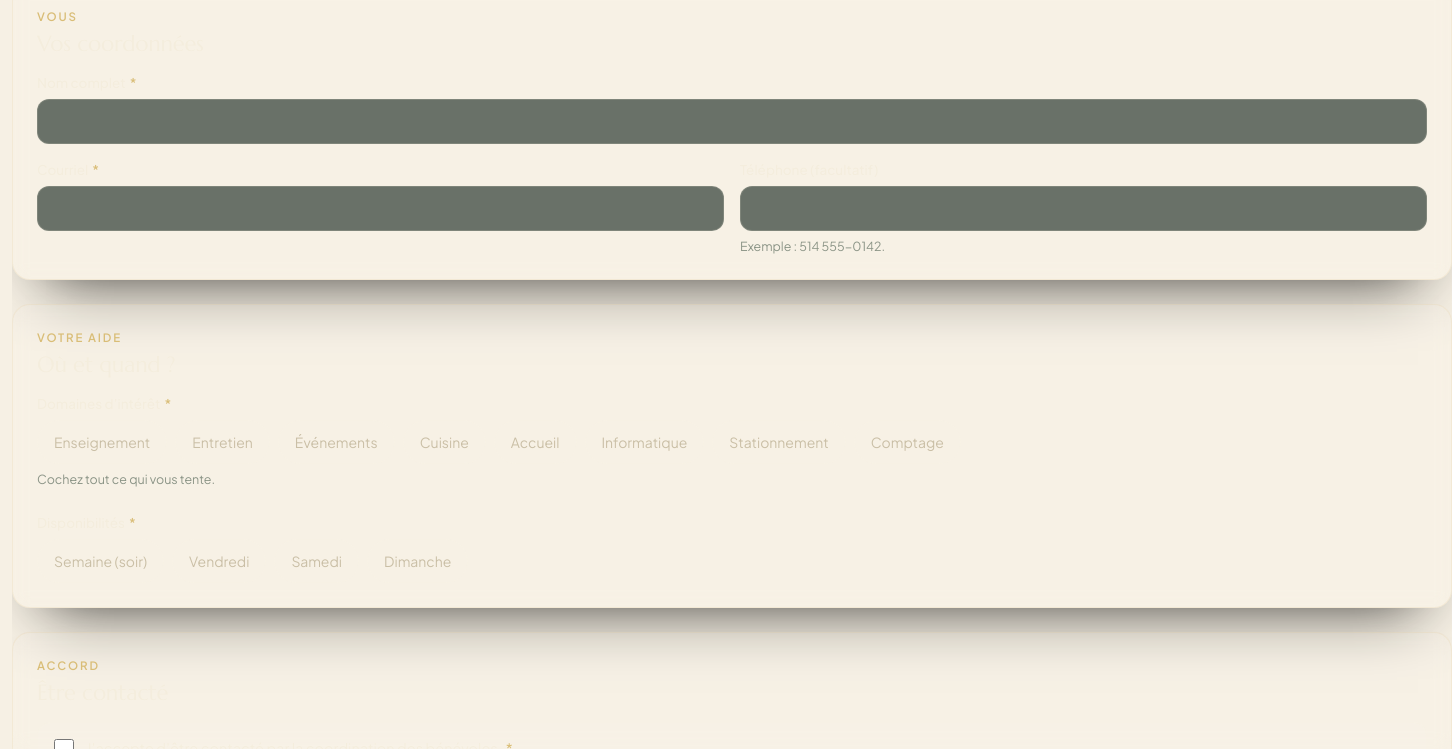
Test: Public — volunteer form › requires the consent to be contacted before sending anything
This screenshot has width=1452, height=749.
Later steps or results of the test are not shown.
Type "Leïla Haddad" into the field labelled "Nom complet*" at (732, 122), box [37,99,1427,144]
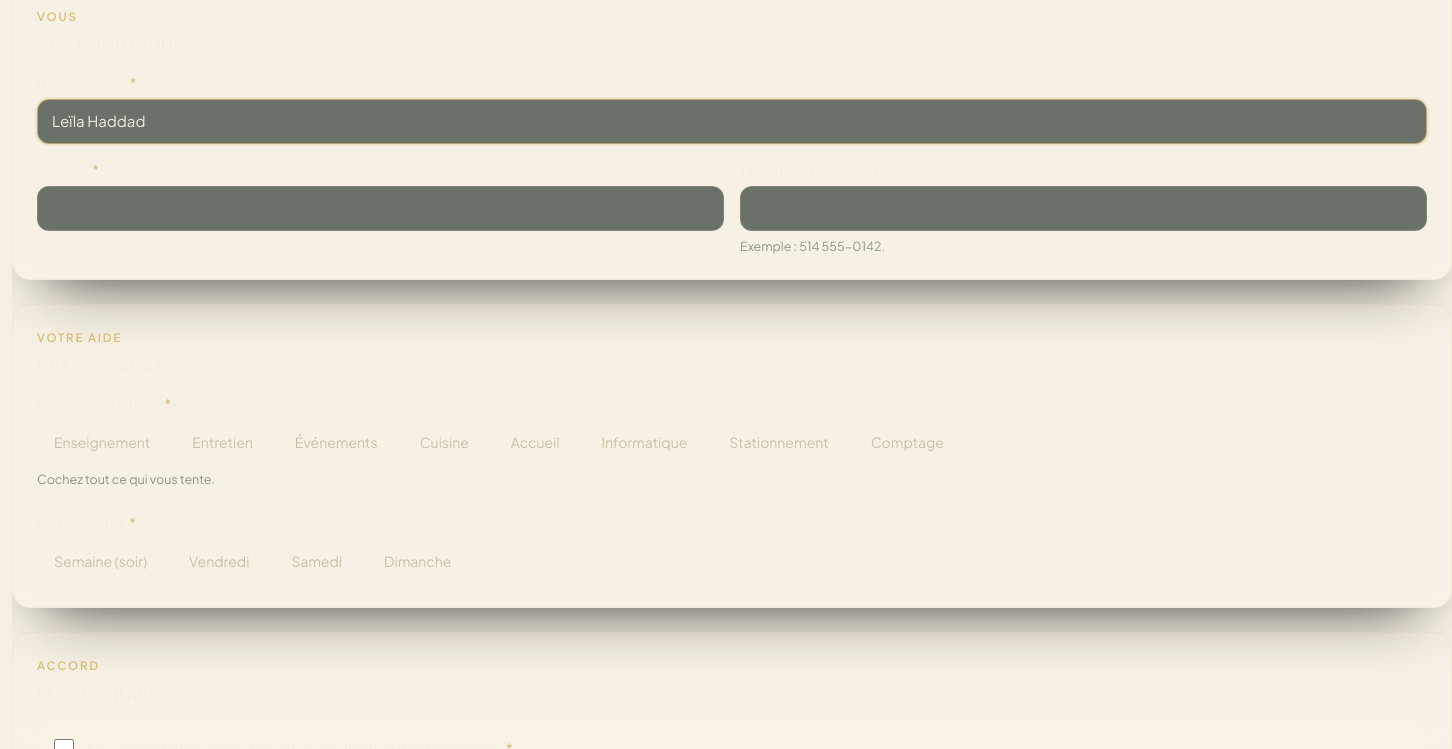
Type "leila.h@example.org" into the field labelled "Courriel*" at (380, 208), box [37,186,724,230]
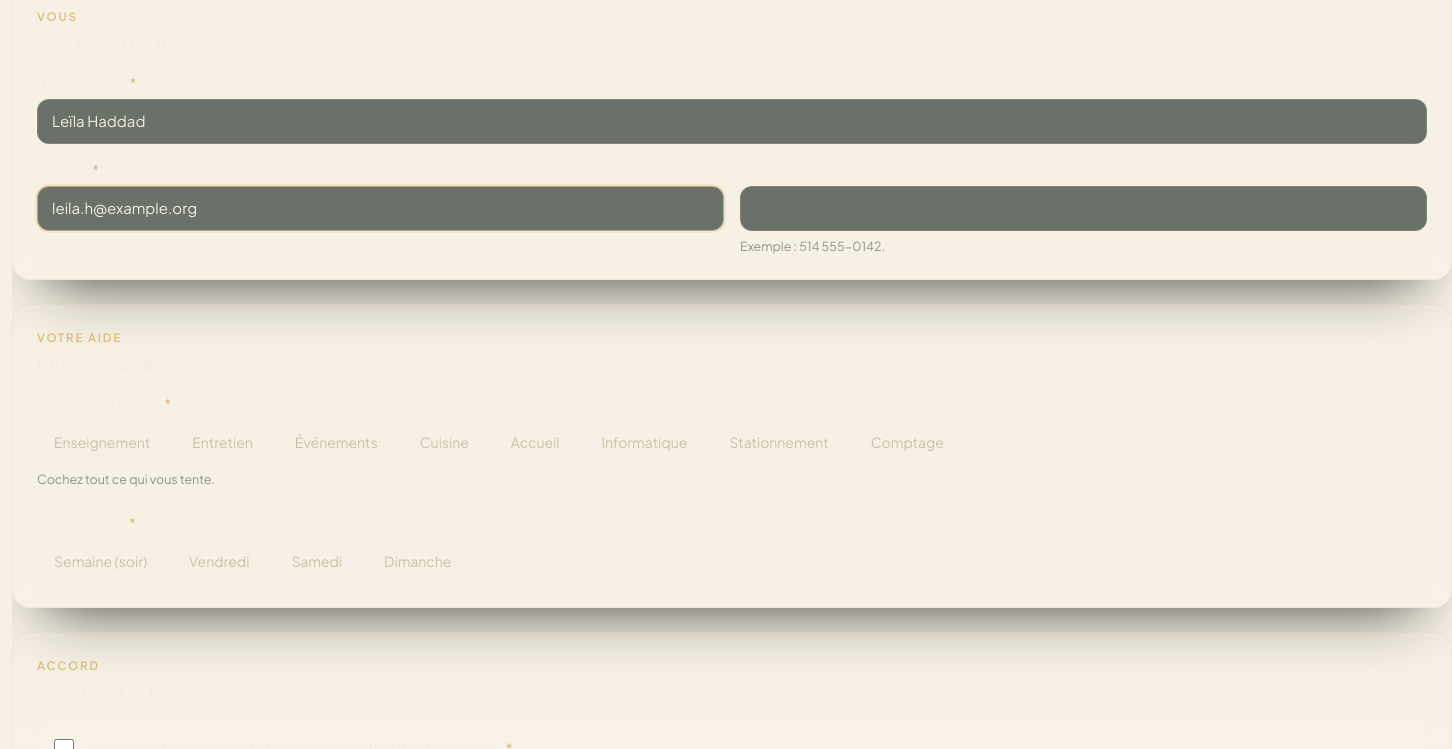
Click the checkbox labelled "Accueil" at (535, 442), box [494,420,576,464]
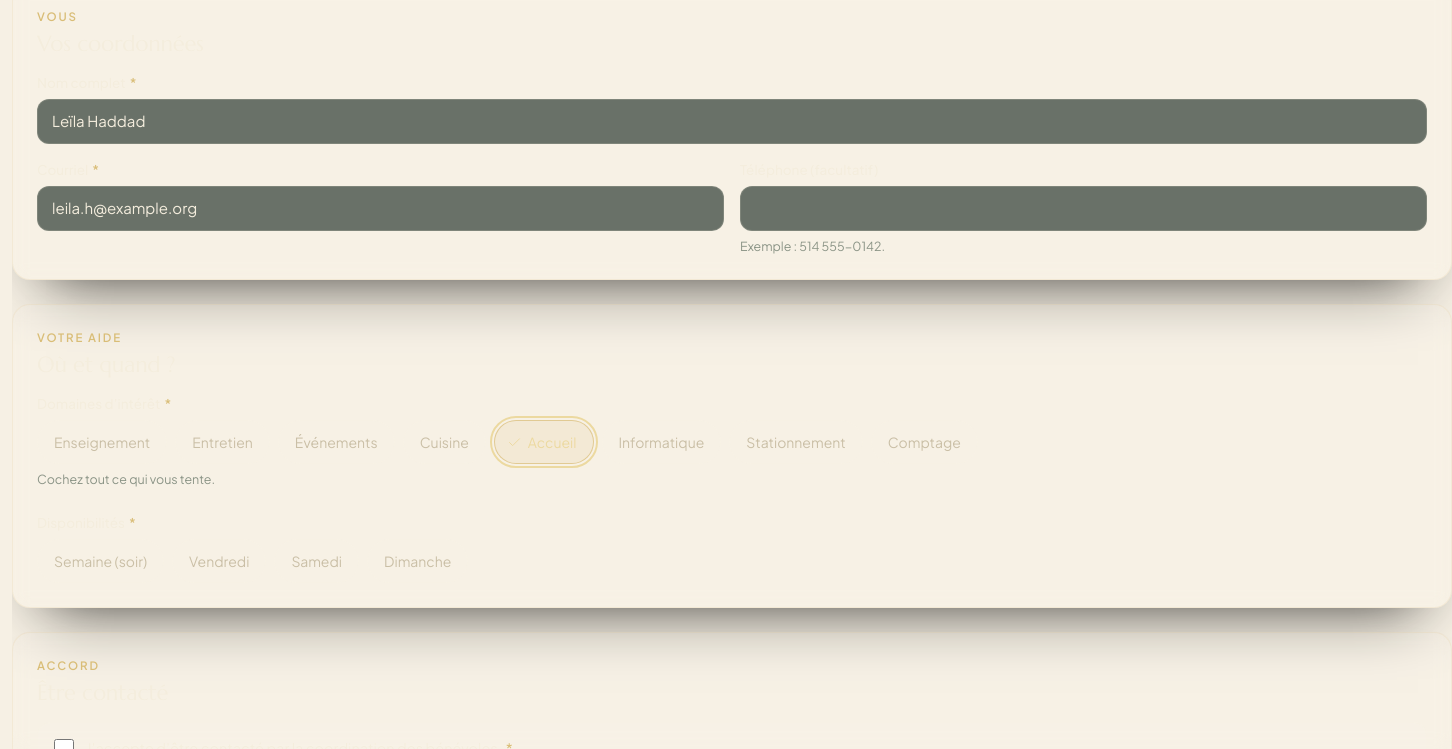
Click the checkbox labelled "Cuisine" at (444, 442), box [403,420,486,464]
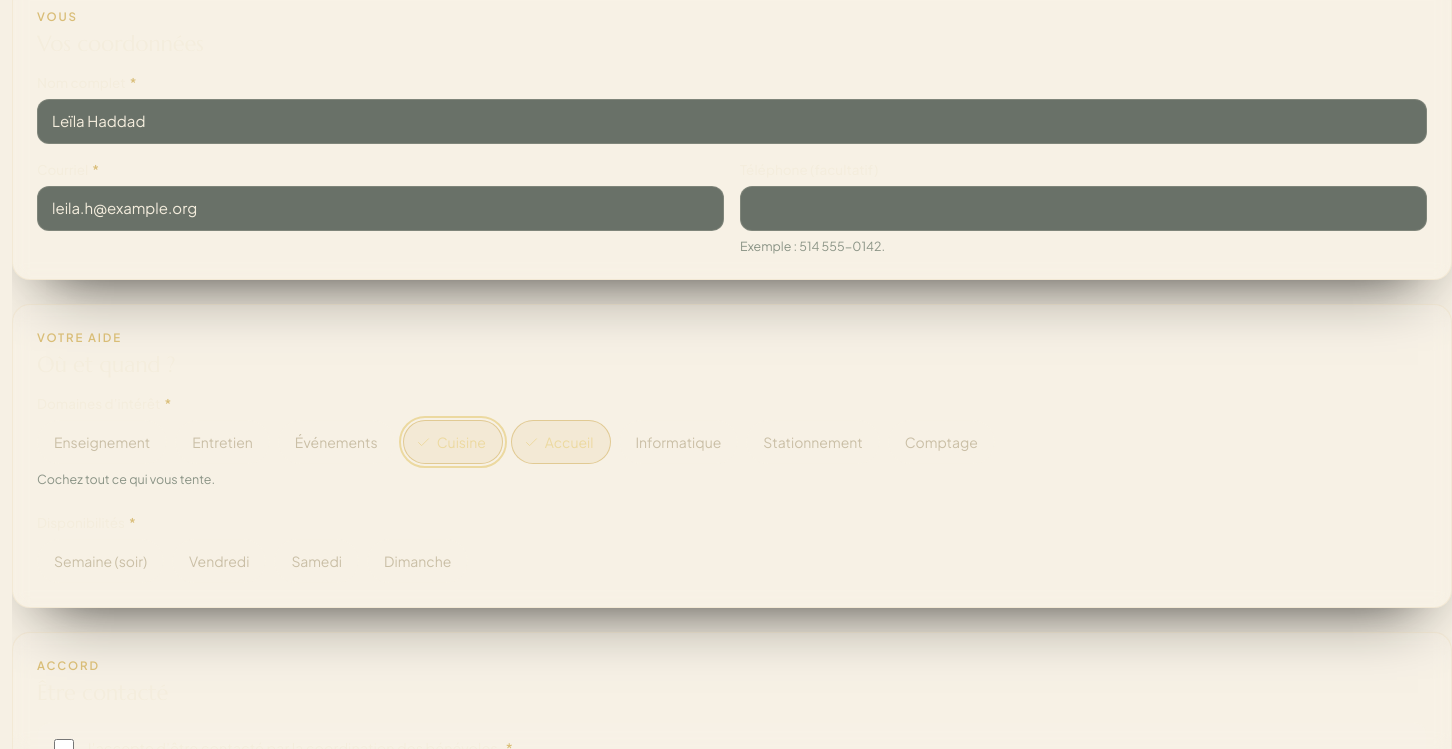
Click the checkbox labelled "Samedi" at (317, 561), box [274,539,359,583]
(page scrolled)
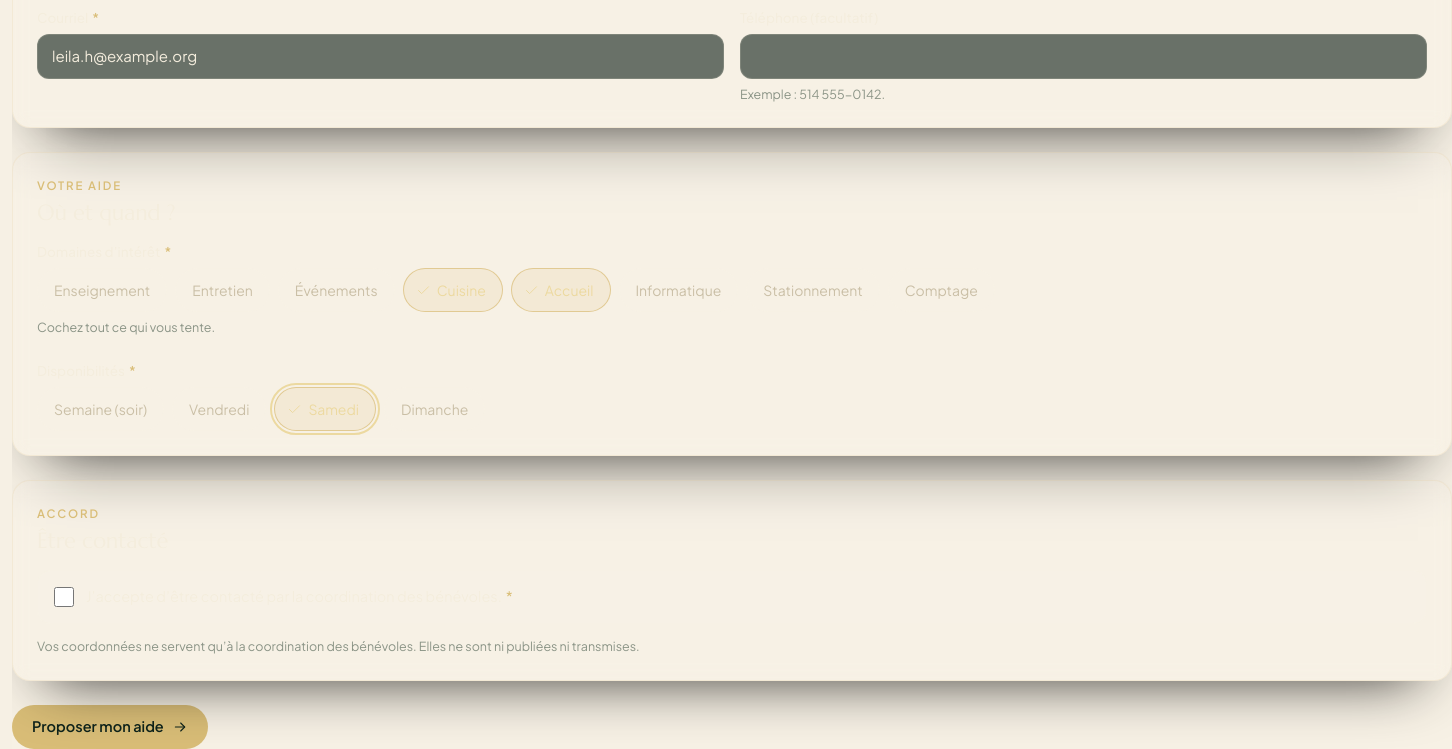
Click the button "Proposer mon aide" at (110, 727), box [12,705,208,748]
(page scrolled)
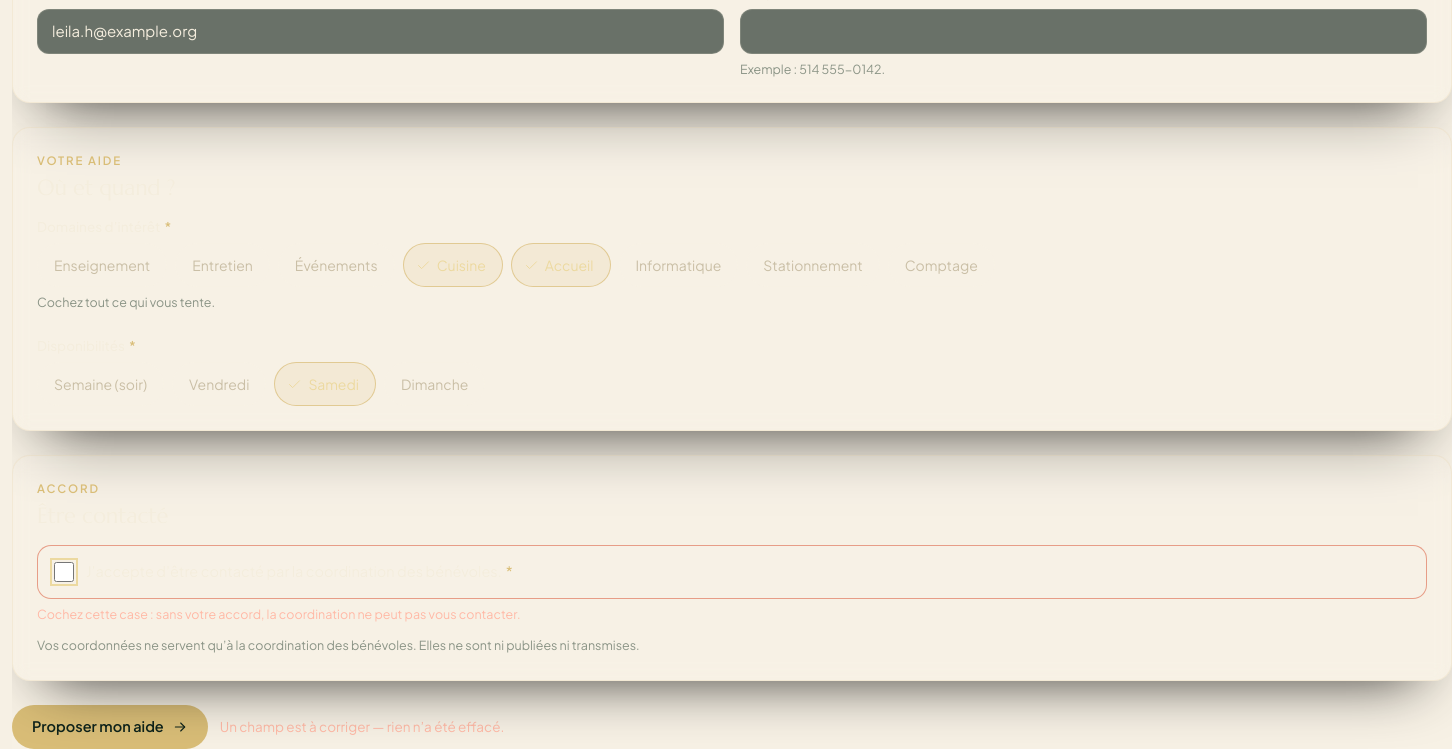
Expected: the text "Un champ est à corriger — rien n’a été effacé." is shown, [220,716,504,737]
